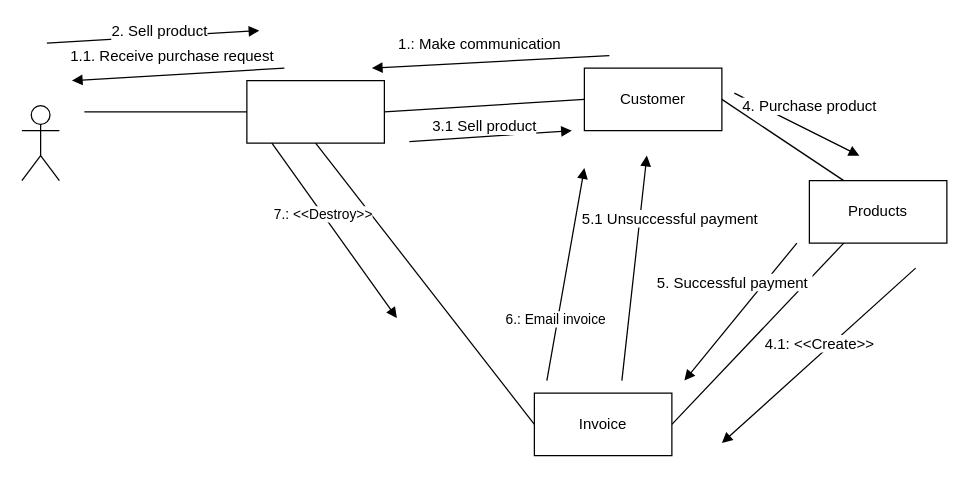
Some shapes in this 969 by 478 pixel diagram are drawn without their labels. The shapes that lost their labels are listed below. From the top down, each one's centre as x and y in pixels, then its label:
At point 315,111: "SystemGUI".
At point 40,142: "Seller".
